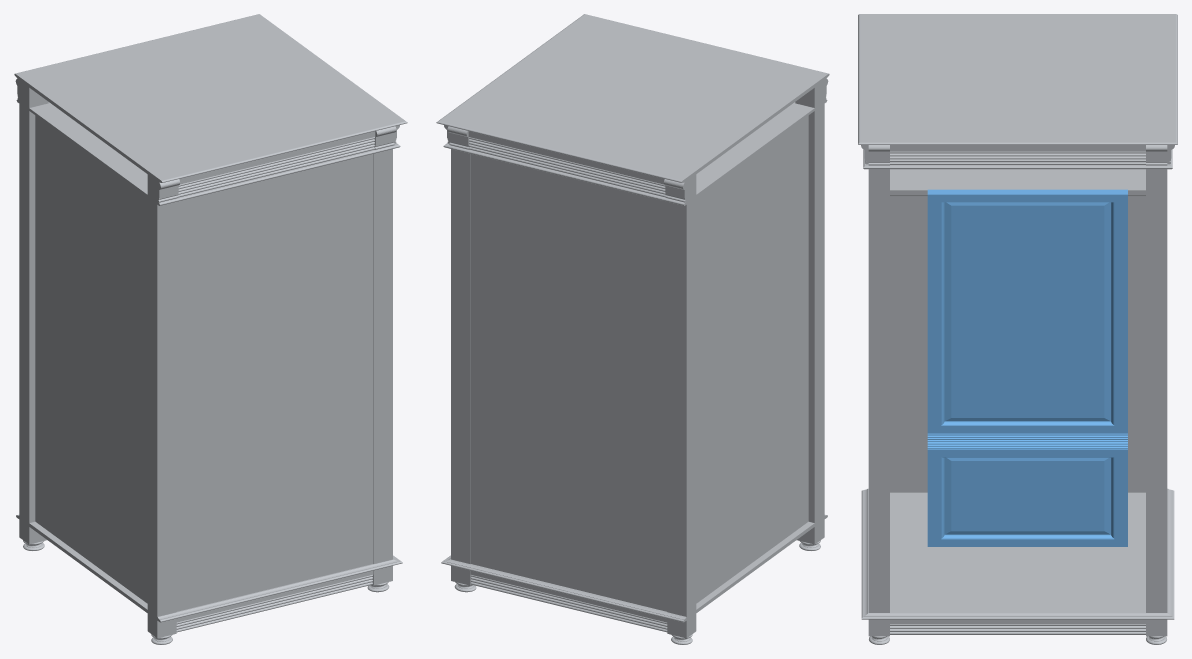
File: parts.glb
The picture shows the model from 3 angles, left to right: view 1: azimuth 30°, elevation 25°; view 2: azimuth 150°, elevation 25°; view 3: azimuth 270°, elevation 25°; orthographic projection. The views are drawn at different scales.
Parts seen in each view (by area): view 1: visual_0_0; view 2: visual_0_0; view 3: visual_0_0, visual_1_0.
Boxes of the visible parts, box(x1,y1,x2,y2) form: visual_0_0: box(14, 14, 407, 644); visual_0_0: box(436, 14, 829, 644); visual_0_0: box(858, 14, 1177, 644); visual_1_0: box(927, 189, 1127, 546).
Size of the model in its own units: 0.8527 by 1.56 by 0.8906.
